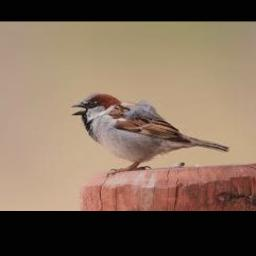Sparrow: (70, 92, 228, 176)
